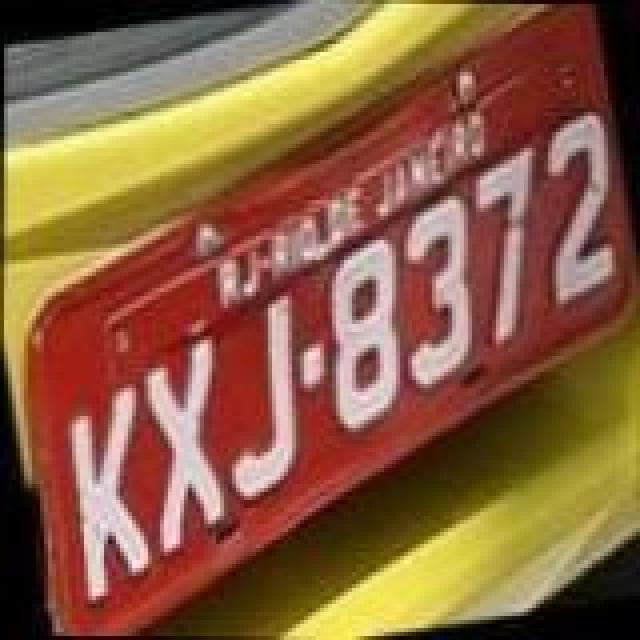2: (522, 102, 638, 306)
3: (378, 188, 498, 392)
7: (458, 138, 574, 350)
8: (304, 230, 428, 442)
J: (200, 290, 328, 510)
K: (44, 374, 168, 610)
X: (120, 330, 248, 562)
